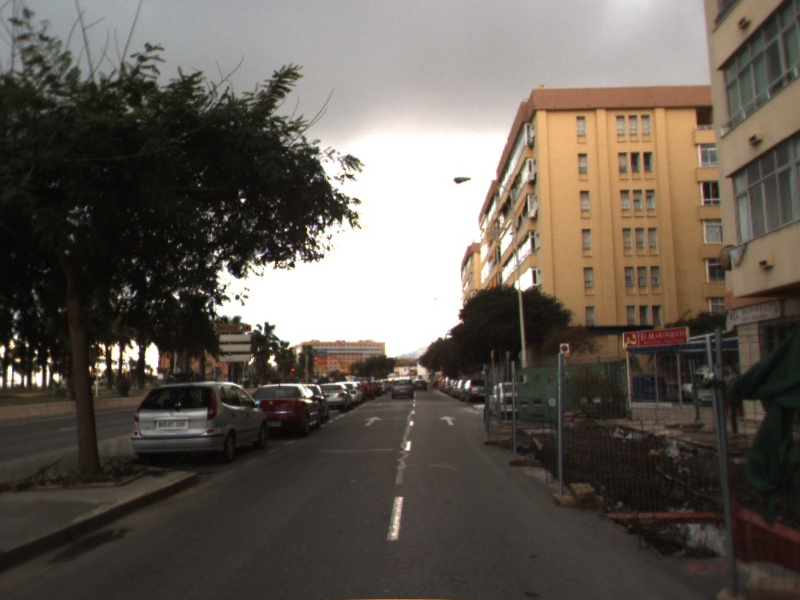STRAIGHT: (437, 414, 460, 427), (362, 414, 385, 427)
